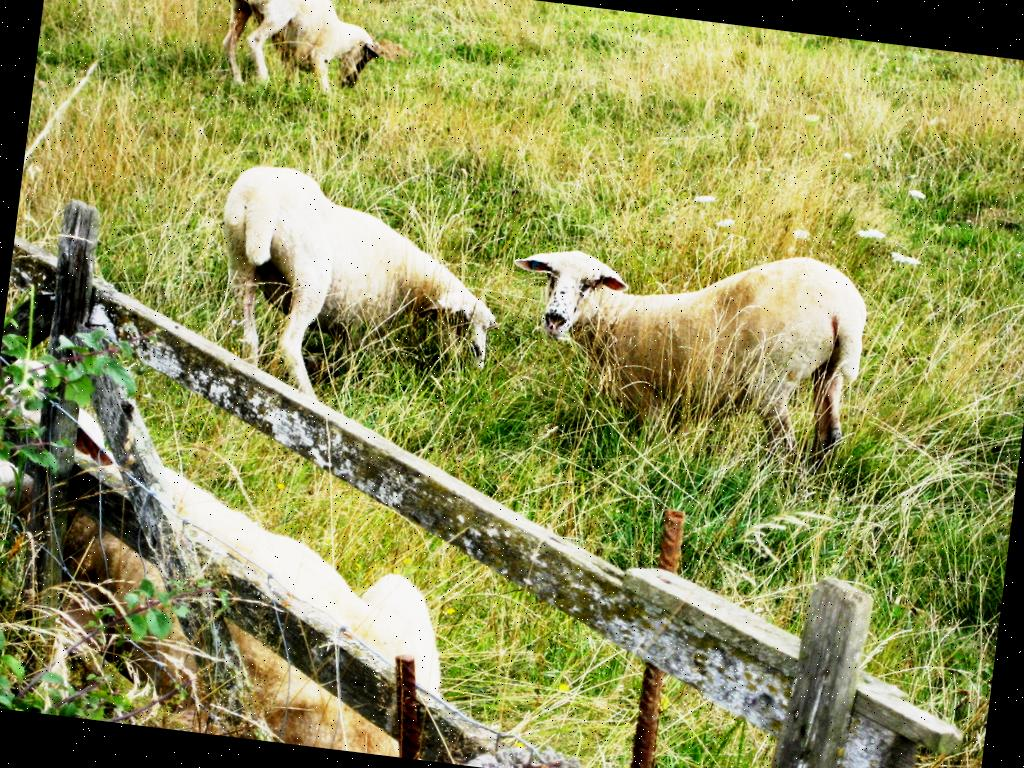Sheep: (0, 353, 468, 760), (494, 222, 872, 475), (204, 159, 516, 424), (216, 0, 388, 104)
